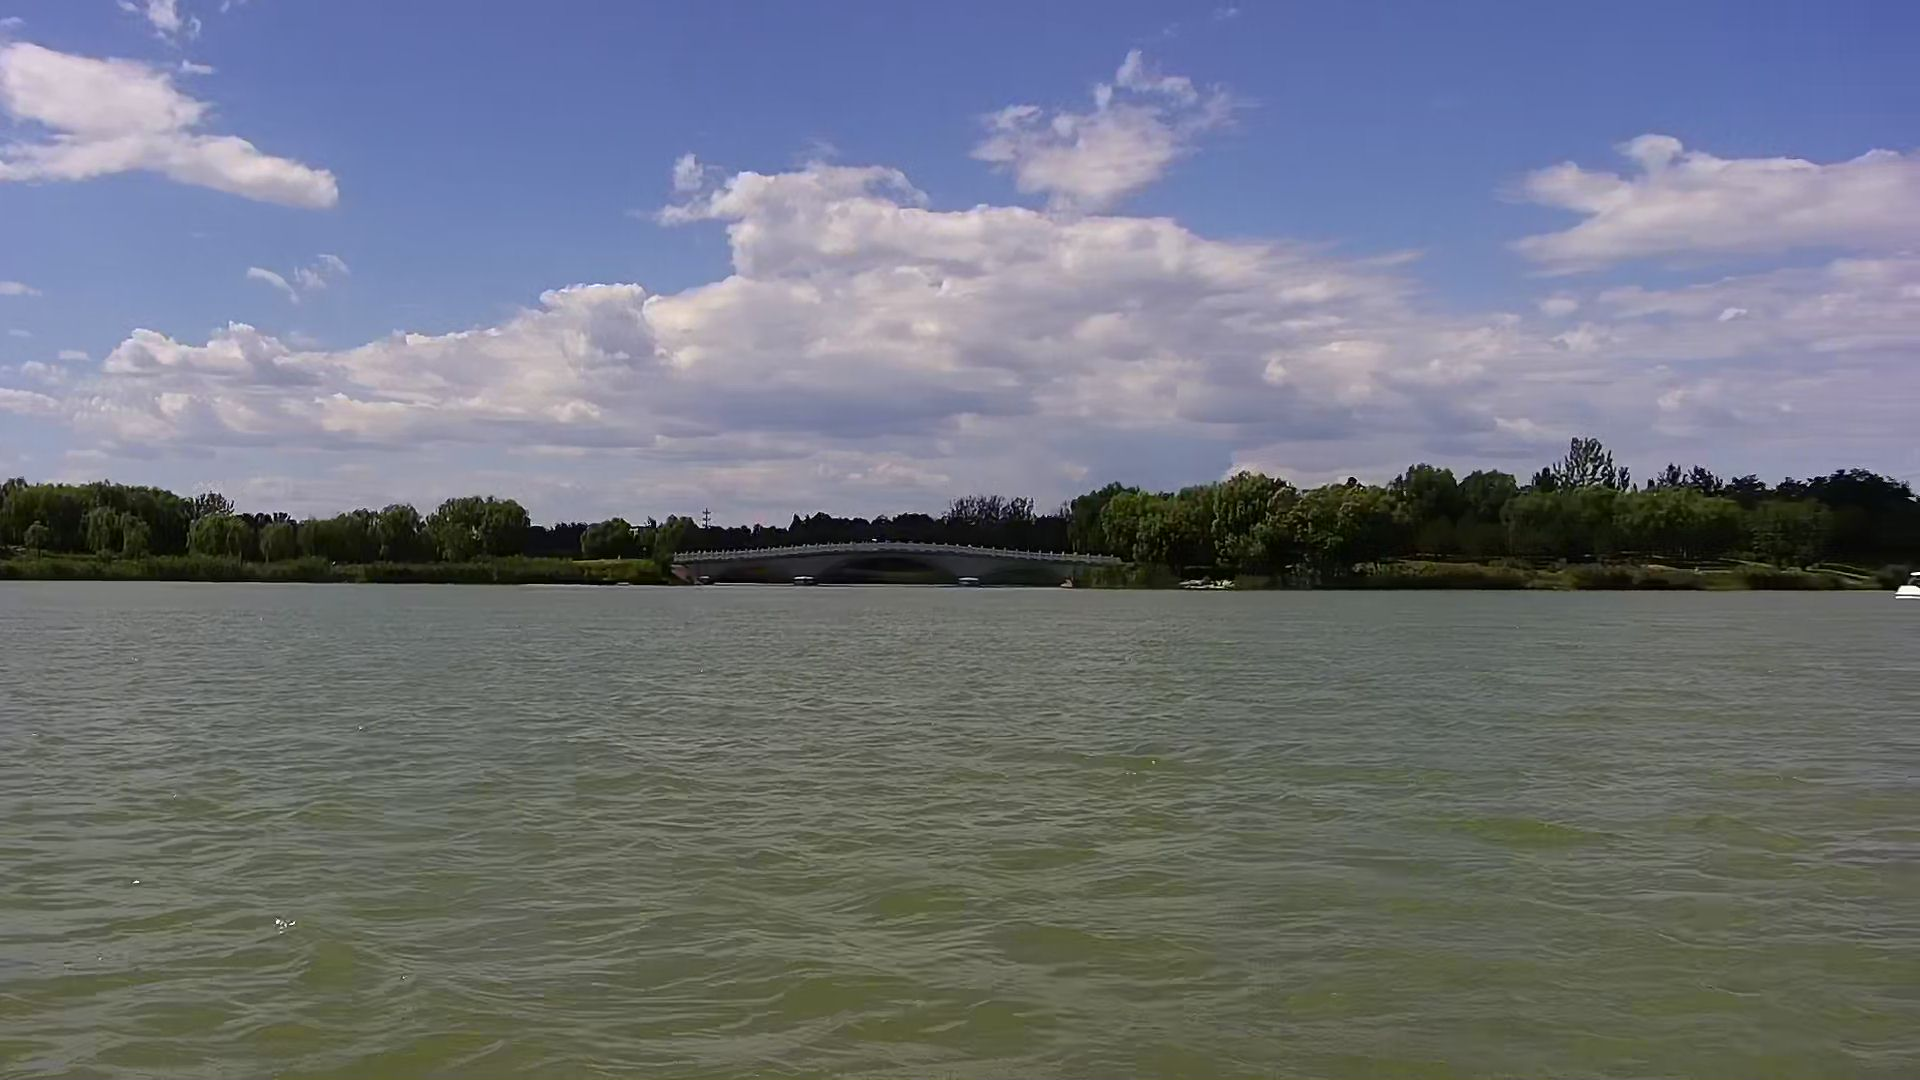bridge: (675, 537, 1112, 588)
